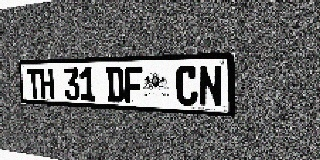1: (79, 67, 96, 101)
3: (64, 68, 80, 100)
C: (176, 65, 198, 106)
D: (106, 67, 124, 103)
F: (124, 66, 143, 104)
H: (40, 68, 55, 99)
N: (199, 65, 223, 107)
T: (27, 68, 41, 99)
